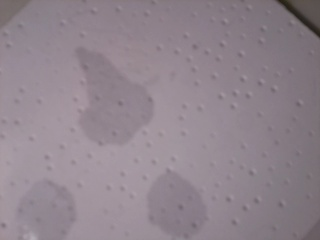Water_detected: (78, 60, 150, 132), (27, 181, 71, 232), (149, 179, 188, 226)
